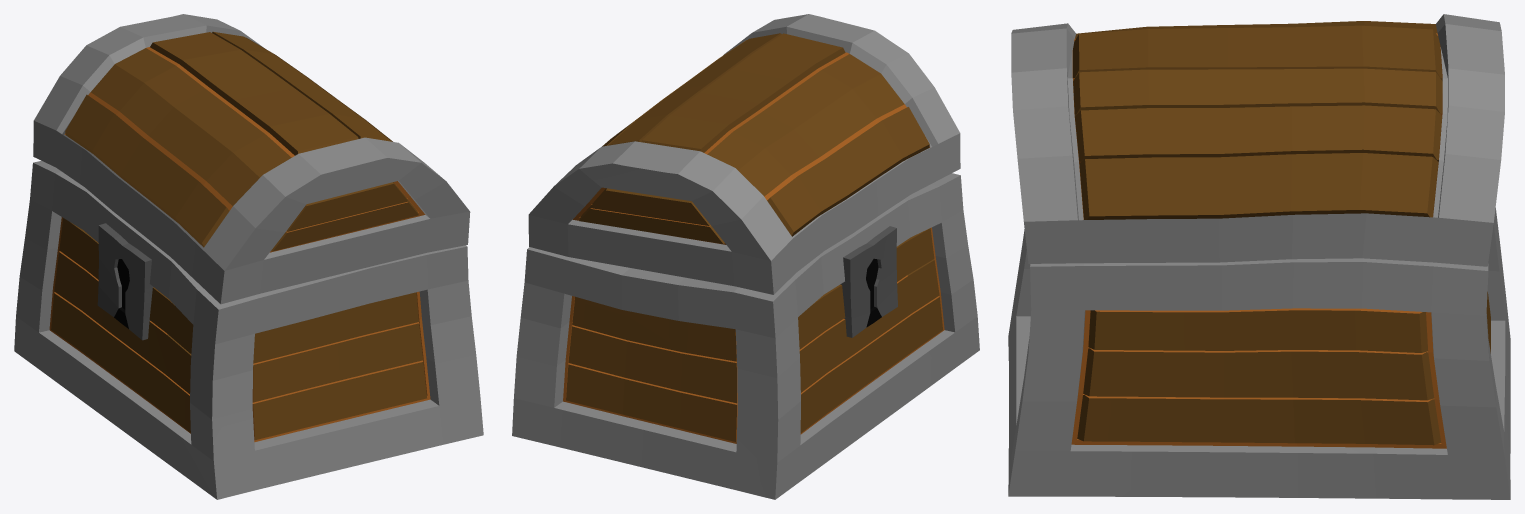
File: SM_Chest.fbx
The picture shows the model from 3 angles, left to right: view 1: azimuth 30°, elevation 25°; view 2: azimuth 150°, elevation 25°; view 3: azimuth 270°, elevation 25°; orthographic projection. The views are drawn at different scales.
Visible parts, largest first — view 1: Cube, Cube.001; view 2: Cube, Cube.001; view 3: Cube, Cube.001.
Part boxes in pixels (x1,y1,x2,y2): Cube: (14,160,483,499); Cube.001: (33,14,470,304); Cube: (512,173,979,499); Cube.001: (528,14,960,294); Cube: (1008,208,1510,499); Cube.001: (1011,14,1504,266).
Bounding box in the file's own units: 64.34 × 70.42 × 84.57.
